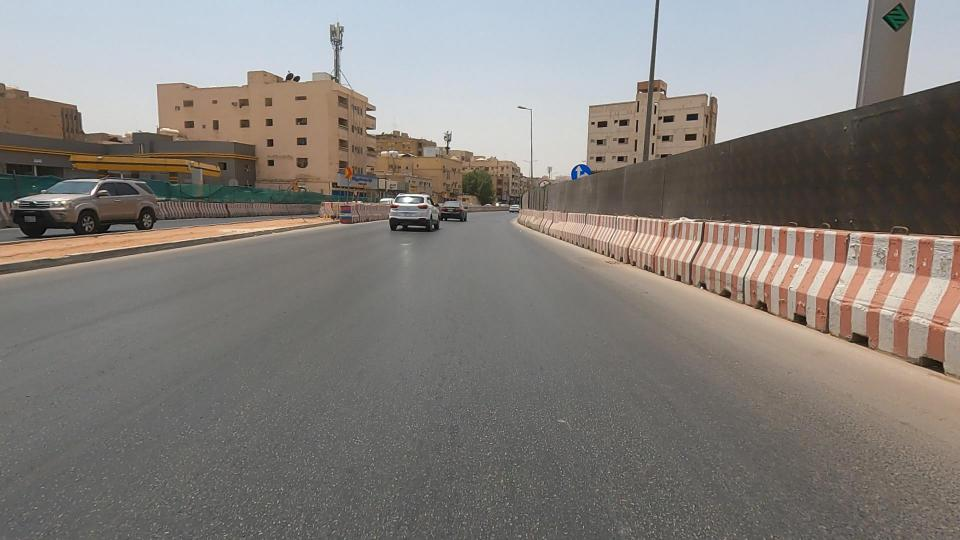CONSTRUCTION_ROAD: (537, 82, 960, 381), (498, 155, 693, 293), (121, 161, 266, 231), (241, 170, 328, 231)
